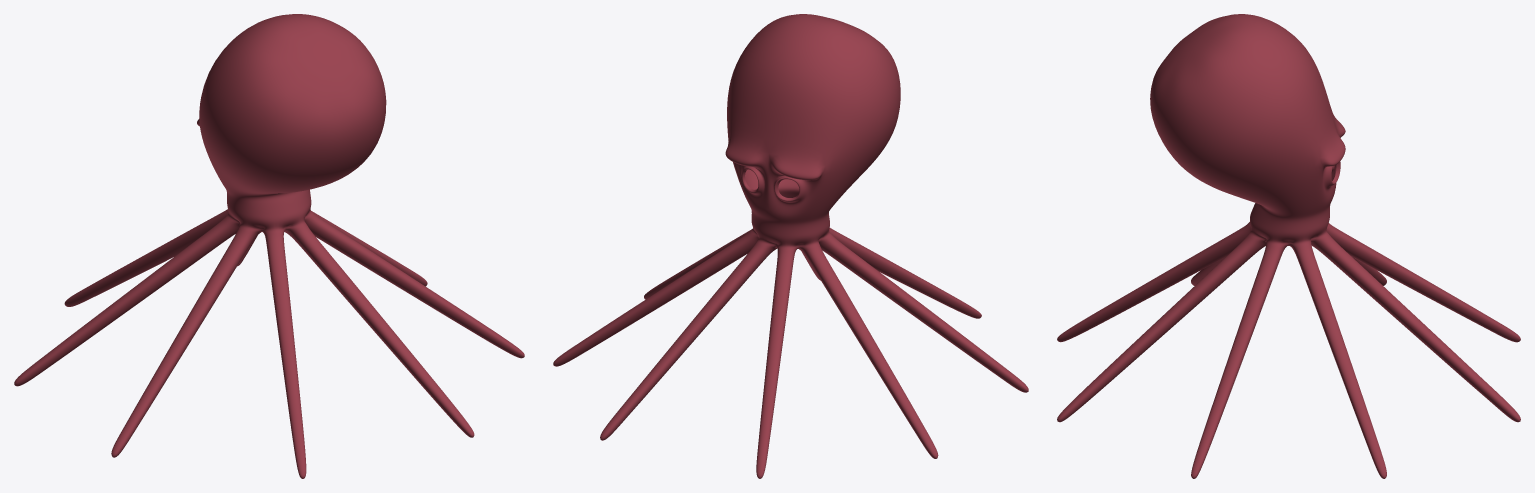
File: Octopus.fbx
The picture shows the model from 3 angles, left to right: view 1: azimuth 30°, elevation 25°; view 2: azimuth 150°, elevation 25°; view 3: azimuth 270°, elevation 25°; orthographic projection. The views are drawn at different scales.
Visible parts, largest first — view 1: Body; view 2: Body; view 3: Body.
Part boxes in pixels (<box>): Body: <box>14,14,524,478</box>; Body: <box>553,14,1028,478</box>; Body: <box>1057,14,1520,478</box>.
Size of the model in its own units: 2.47 by 2.11 by 2.47.
